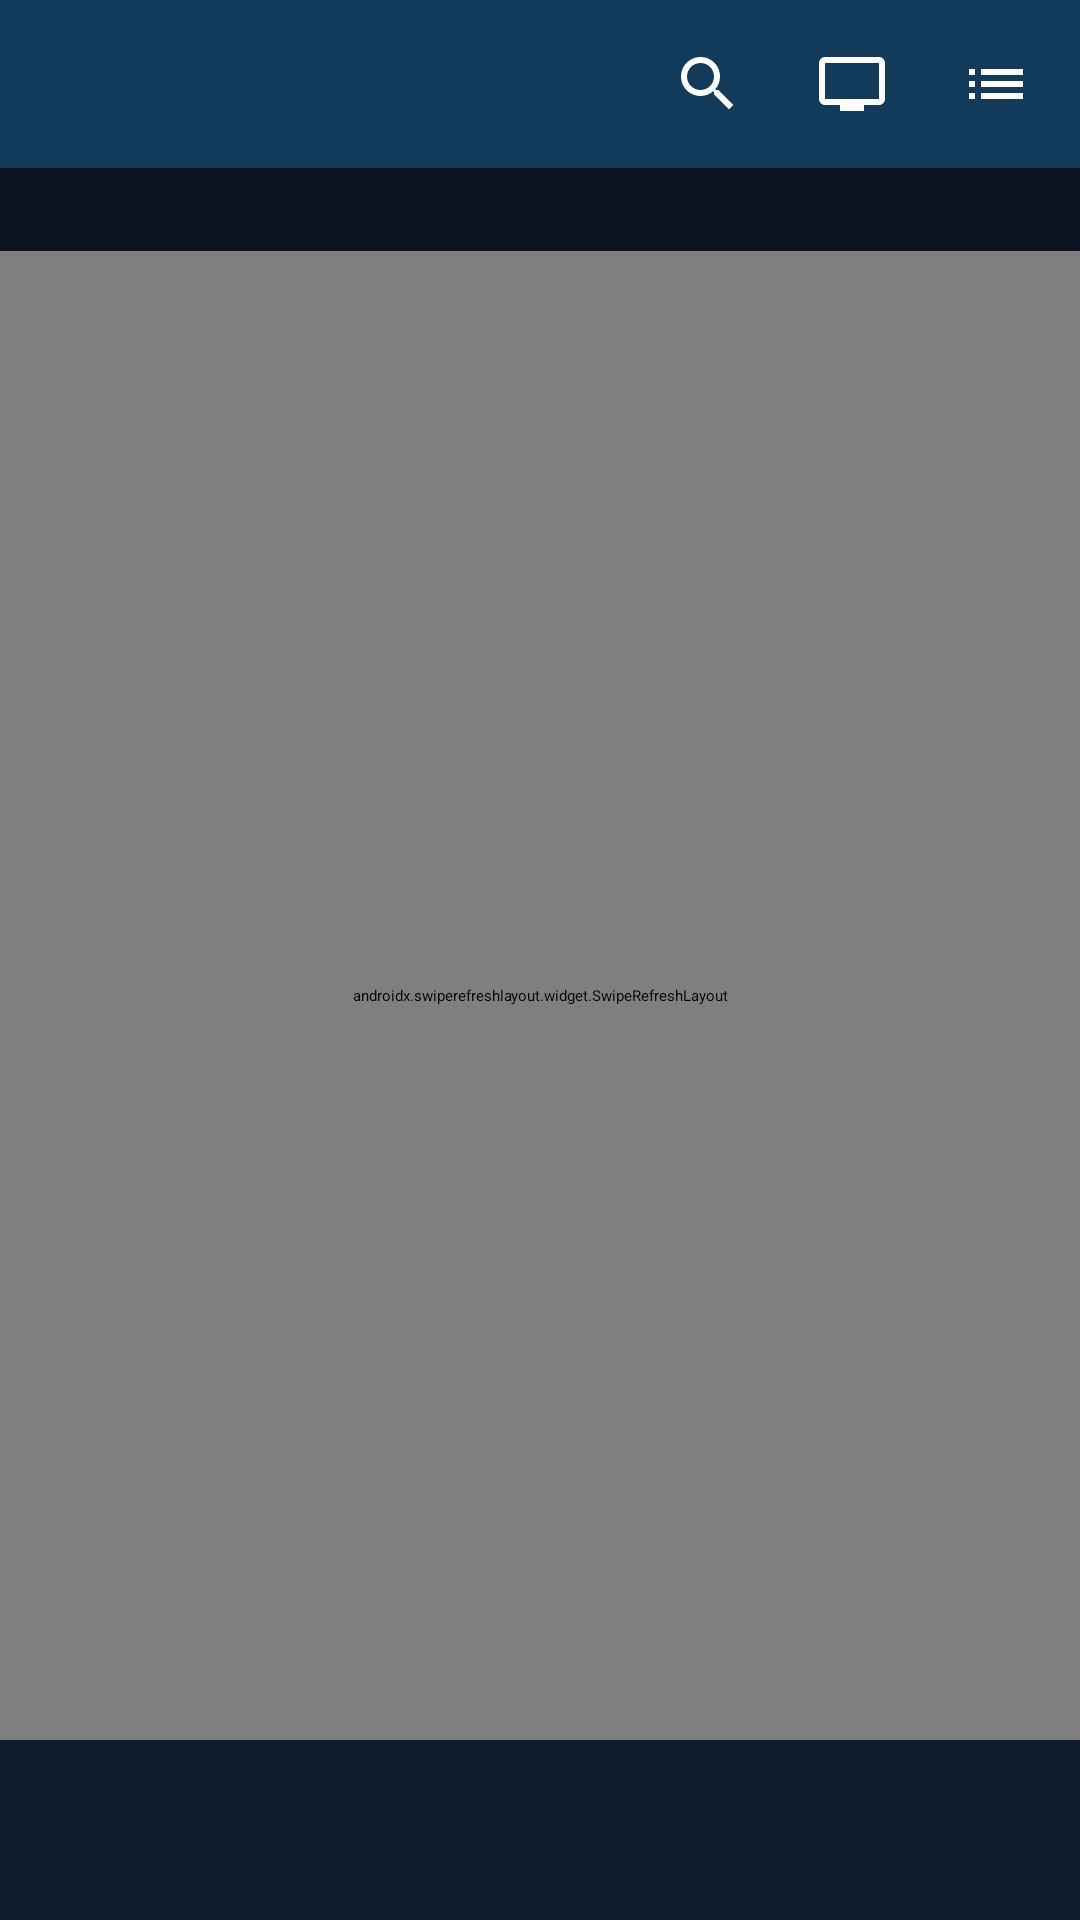

Point at icon controls on the screen. Image size 1080px×1920px, points as [x,y].
Changer de vue: [996,84]
Guide TV: [852,84]
Rechercher: [707,83]
